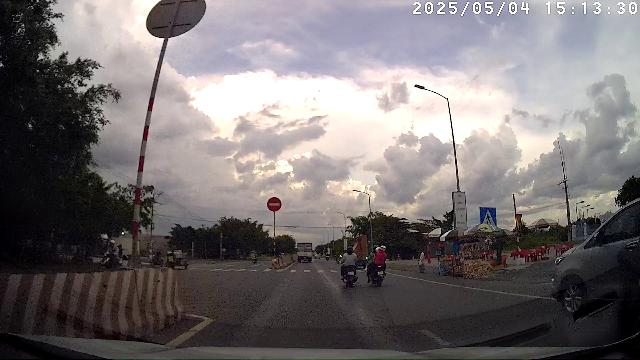102-cam-di-nguoc-chieu: (267, 196, 282, 212)
423a-duong-nguoi-di-bo-sang-ngang-1: (480, 206, 496, 225)
